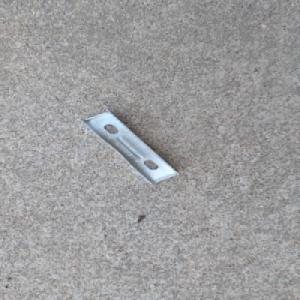ClampPart: (76, 107, 182, 186)
